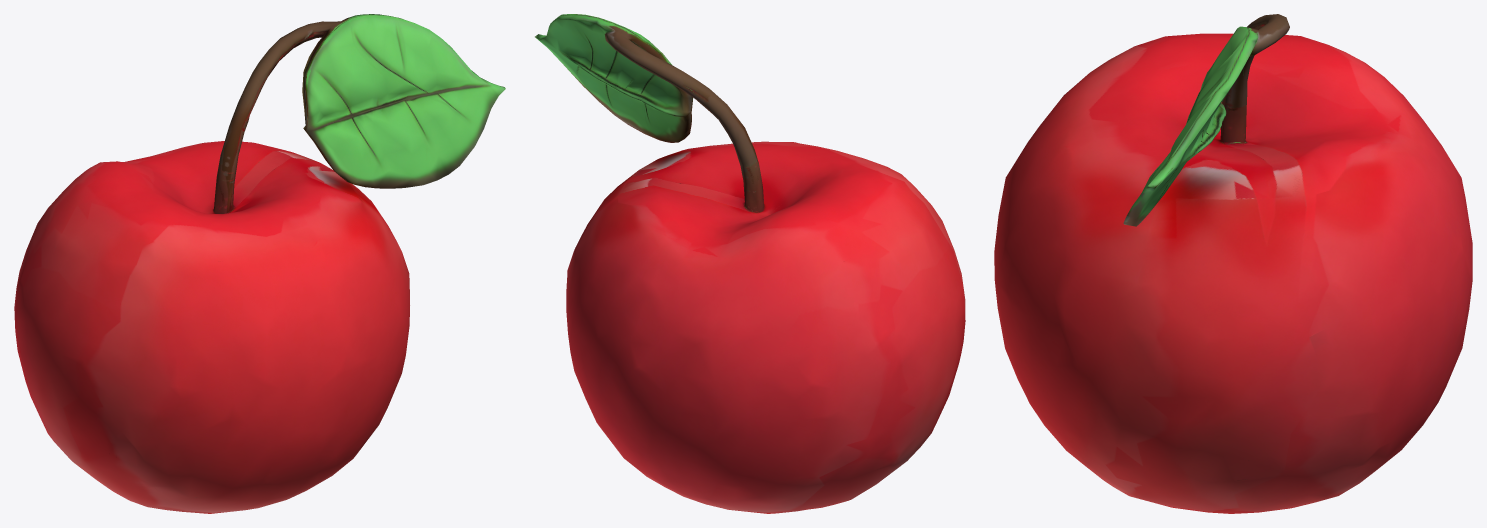
File: Meshy_AI_Cartoon_hyper_casual__0109131806_texture.fbx
3 views of the same model, side by side, from view 1: azimuth 30°, elevation 25°; view 2: azimuth 150°, elevation 25°; view 3: azimuth 270°, elevation 25° (orthographic). The views are drawn at different scales.
Visible parts, largest first — view 1: Mesh_0; view 2: Mesh_0; view 3: Mesh_0.
Boxes of the visible parts, box(x1,y1,x2,y2) form: Mesh_0: box(14, 14, 505, 513); Mesh_0: box(535, 14, 965, 513); Mesh_0: box(994, 14, 1472, 513).
Bounding box in the file's own units: 191 × 180 × 146.
1 material, 1 textured.
